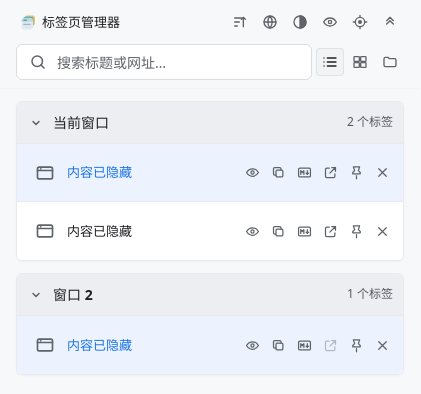
Test case: App integration › does not expose domain group headings while global privacy is enabled
Expected: the number of list items with class "tab-row" is 3, [17,144,403,202]; [17,202,403,260]; [17,316,403,374]
Click the button named "域名分组视图". click: (360, 62)
box: [346,48,374,76]
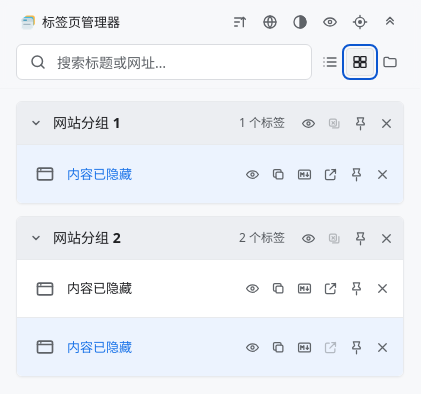
Result: the element "网站分组 1 1 个标签 内容已隐藏" is shown at [16,101,404,204]
Result: the element "网站分组 2 2 个标签 内容已隐藏 内容已隐藏" is shown at [16,216,404,377]
Result: the button named "关闭 网站分组 1 分组中的 1 个标签" is shown at [373,110,399,136]
